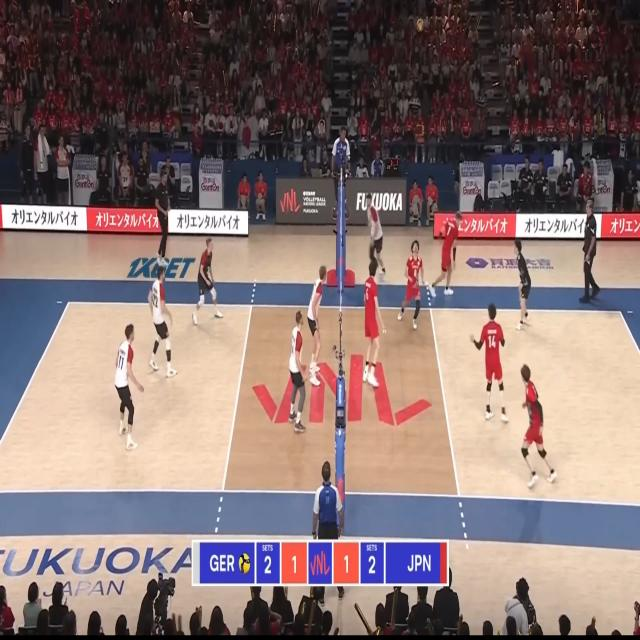ball: (416, 19, 424, 32)
